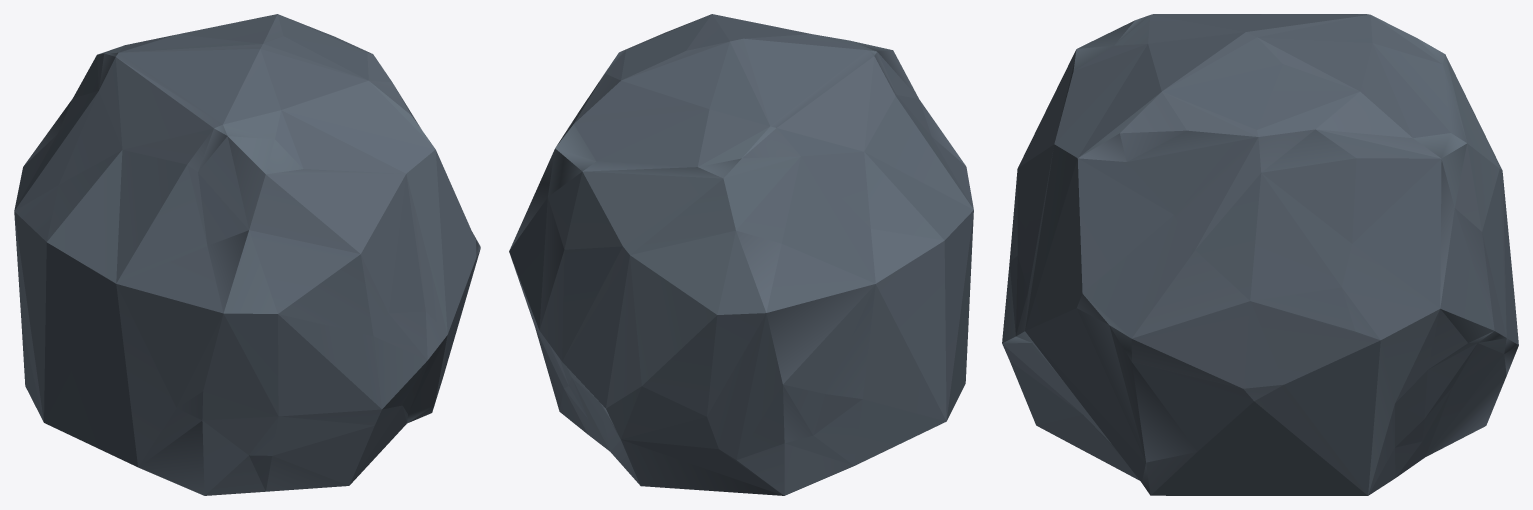
File: boulder-small-a.glb
3 views of the same model, side by side, from view 1: azimuth 30°, elevation 25°; view 2: azimuth 150°, elevation 25°; view 3: azimuth 270°, elevation 25° (orthographic). The views are drawn at different scales.
Parts seen in each view (by area): view 1: boulder-small-a; view 2: boulder-small-a; view 3: boulder-small-a.
Boxes of the visible parts, x1,y1,x2,y2 form: boulder-small-a: [14, 14, 480, 495]; boulder-small-a: [509, 14, 973, 495]; boulder-small-a: [1002, 14, 1518, 495].
Bounding box in the file's own units: 0.6739 × 0.6249 × 0.7264.
